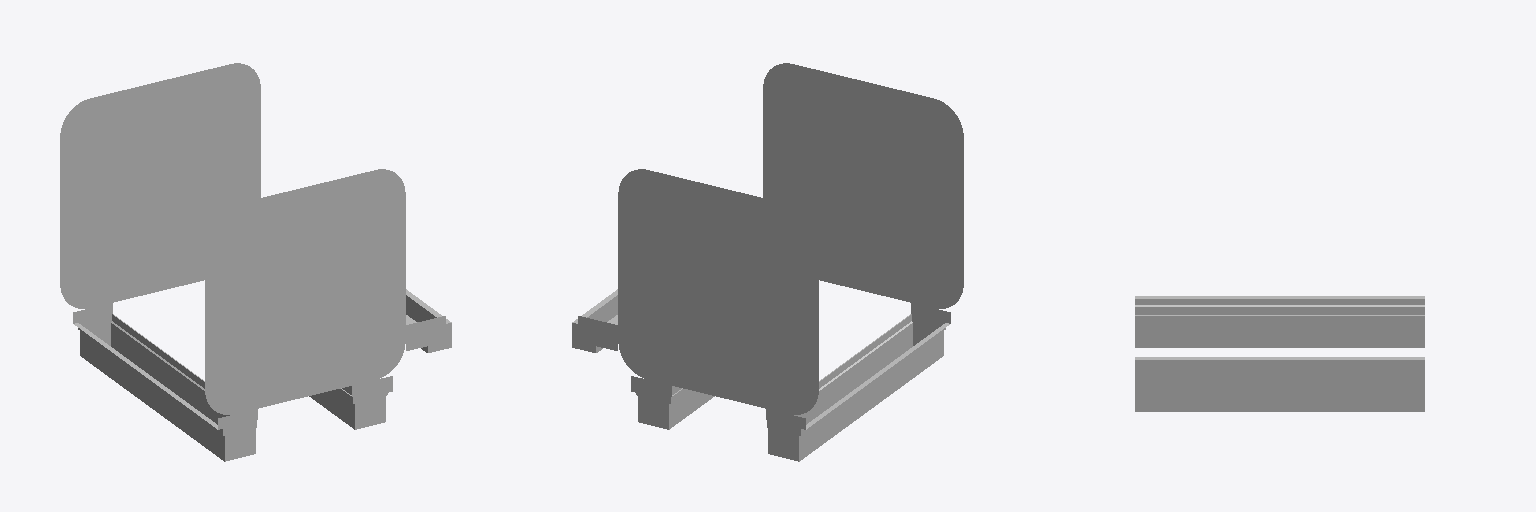
The model's file is a2_cut_0__11_1_1.obj.
3 renders of one model, left to right at view 1: azimuth 30°, elevation 25°; view 2: azimuth 150°, elevation 25°; view 3: azimuth 270°, elevation 25°, orthographic.
Visible parts, largest first — view 1: 0; view 2: 0; view 3: 0.
Part boxes in pixels (left/top/right/bottom): 0: left=60, top=63, right=451, bottom=461; 0: left=572, top=63, right=963, bottom=461; 0: left=1135, top=296, right=1424, bottom=411.
Bounding box in the file's own units: 246 × 243 × 250.